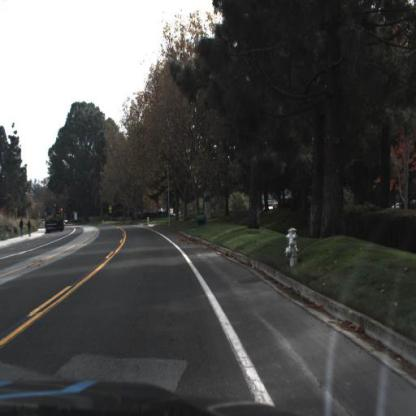pedestrian: (16, 219, 25, 242), (18, 217, 26, 240), (27, 219, 34, 240), (26, 219, 34, 237)
truck: (46, 204, 68, 237)
